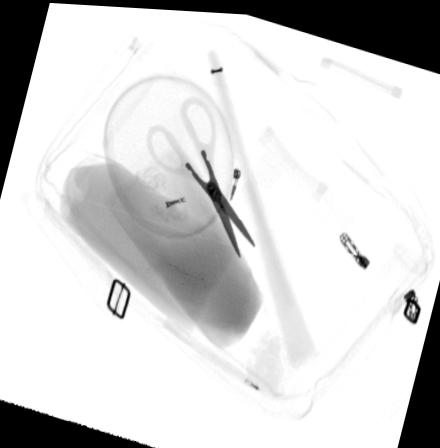Scissors: (147, 96, 256, 254)
